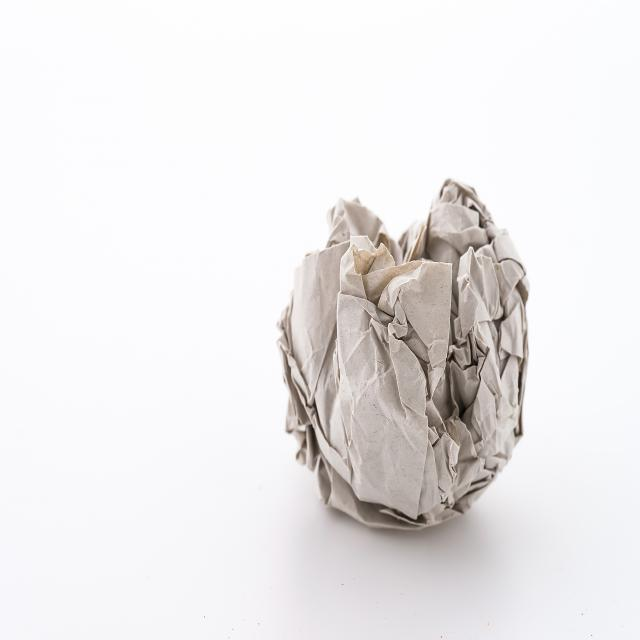Papel: (271, 184, 530, 534)
